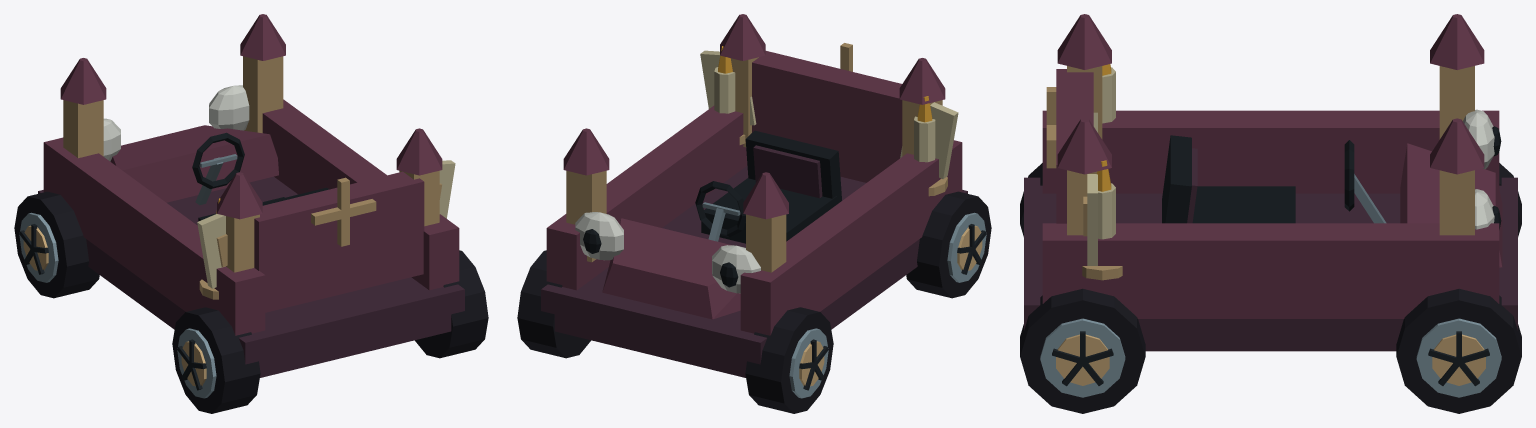
File: kart.glb
3 views of the same model, side by side, from view 1: azimuth 30°, elevation 25°; view 2: azimuth 150°, elevation 25°; view 3: azimuth 270°, elevation 25° (orthographic). The views are drawn at different scales.
Visible parts, largest first — view 1: identity-reliquary-reliquary-arched-stone-chest, wheel-rear-left, wheel-front-left, wheel-rear-right, identity-reliquary-motif-cards, identity-reliquary-motif-eyes, identity-reliquary-driver-cockpit; view 2: identity-reliquary-reliquary-arched-stone-chest, identity-reliquary-driver-cockpit, wheel-front-left, wheel-rear-left, identity-reliquary-motif-eyes, wheel-front-right, identity-reliquary-motif-candles, identity-reliquary-motif-cards; view 3: identity-reliquary-reliquary-arched-stone-chest, wheel-front-right, wheel-rear-right, identity-reliquary-driver-cockpit, identity-reliquary-motif-candles, identity-reliquary-motif-eyes, identity-reliquary-motif-cards.
Boxes of the visible parts, x1,y1,x2,y2 form: identity-reliquary-reliquary-arched-stone-chest: (38,14,464,377); wheel-rear-left: (172,307,260,413); wheel-front-left: (14,191,99,298); wheel-rear-right: (415,250,488,358); identity-reliquary-motif-cards: (197,160,455,288); identity-reliquary-motif-eyes: (103,85,249,161); identity-reliquary-driver-cockpit: (192,132,329,221); identity-reliquary-reliquary-arched-stone-chest: (541,14,967,377); identity-reliquary-driver-cockpit: (695,130,841,243); wheel-front-left: (745,307,833,413); wheel-rear-left: (906,191,991,298); identity-reliquary-motif-eyes: (575,212,760,293); wheel-front-right: (517,250,590,358); identity-reliquary-motif-candles: (714,46,947,196); identity-reliquary-motif-cards: (700,50,958,178); identity-reliquary-reliquary-arched-stone-chest: (1024,14,1517,351); wheel-front-right: (1396,288,1521,413); wheel-rear-right: (1020,288,1145,413); identity-reliquary-driver-cockpit: (1162,135,1386,223); identity-reliquary-motif-candles: (1082,64,1122,280); identity-reliquary-motif-eyes: (1463,109,1501,229); identity-reliquary-motif-cards: (1083,112,1097,265).
Size of the model in its own units: 1.97 by 1.51 by 2.56.
